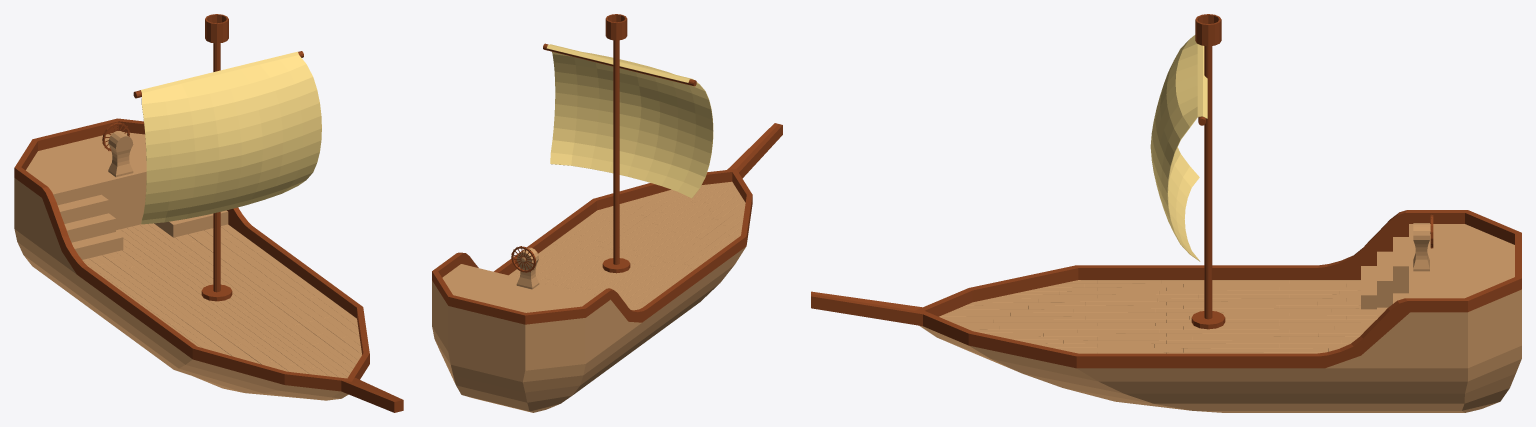
The model's file is Ship2Broken.fbx.
The picture shows the model from 3 angles, left to right: view 1: azimuth 30°, elevation 25°; view 2: azimuth 150°, elevation 25°; view 3: azimuth 270°, elevation 25°; orthographic projection. The views are drawn at different scales.
Visible parts, largest first — view 1: Wheel.014, Wheel.005, Wheel.008, Wheel.003, Wheel.015, Wheel.009, Wheel.012, Wheel.011, Wheel.006, Wheel.016, Wheel.098, Wheel.059 (+31 smaller); view 2: Wheel.014, Wheel.008, Wheel.005, Wheel.003, Wheel.012, Wheel.006, Wheel.011, Wheel.067, Wheel.088, Wheel.071, Wheel.077, Wheel.073 (+13 smaller); view 3: Wheel.008, Wheel.005, Wheel.014, Wheel.003, Wheel.012, Wheel.015, Wheel.006, Wheel.011, Wheel.086, Wheel.067, Wheel.059, Wheel.072 (+8 smaller).
Boxes of the visible parts, <box> form: Wheel.014: <box>133,51,321,224</box>; Wheel.005: <box>14,118,369,391</box>; Wheel.008: <box>14,178,348,400</box>; Wheel.003: <box>26,132,146,194</box>; Wheel.015: <box>57,194,123,259</box>; Wheel.009: <box>53,172,146,230</box>; Wheel.012: <box>201,14,232,301</box>; Wheel.011: <box>102,122,133,177</box>; Wheel.006: <box>341,377,403,412</box>; Wheel.016: <box>154,210,228,237</box>; Wheel.098: <box>225,236,315,298</box>; Wheel.059: <box>109,258,201,322</box>; Wheel.014: <box>543,43,713,198</box>; Wheel.008: <box>432,181,745,412</box>; Wheel.005: <box>432,169,752,324</box>; Wheel.003: <box>442,264,594,312</box>; Wheel.012: <box>602,14,630,273</box>; Wheel.006: <box>727,123,782,178</box>; Wheel.011: <box>511,246,539,289</box>; Wheel.067: <box>619,201,695,257</box>; Wheel.088: <box>633,202,708,255</box>; Wheel.071: <box>576,205,640,249</box>; Wheel.077: <box>649,218,717,266</box>; Wheel.073: <box>645,210,713,258</box>; Wheel.008: <box>919,280,1521,412</box>; Wheel.005: <box>915,210,1521,368</box>; Wheel.014: <box>1150,35,1207,261</box>; Wheel.003: <box>1409,224,1514,298</box>; Wheel.012: <box>1191,14,1225,329</box>; Wheel.015: <box>1361,237,1408,309</box>; Wheel.006: <box>811,291,922,326</box>; Wheel.011: <box>1413,214,1433,271</box>; Wheel.086: <box>1183,283,1345,287</box>; Wheel.067: <box>999,326,1183,329</box>; Wheel.059: <box>1157,298,1345,301</box>; Wheel.072: <box>1183,348,1327,352</box>.
Size of the model in its own units: 4.11 by 7.59 by 13.16.
